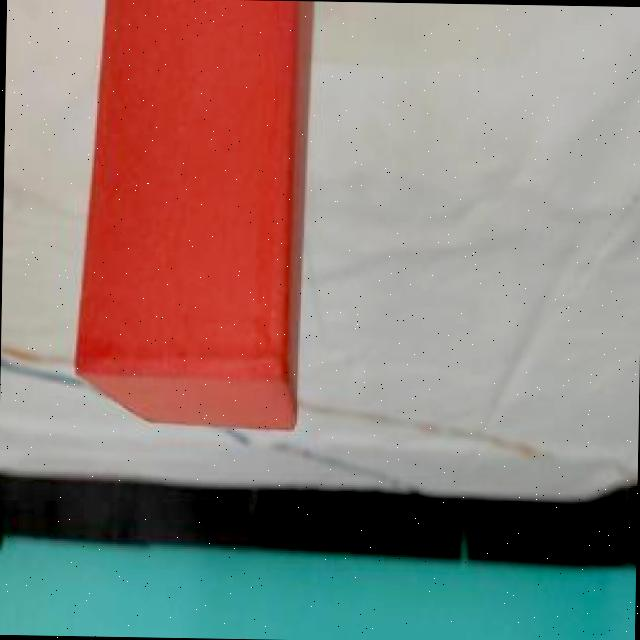redbox: (71, 0, 318, 435)
